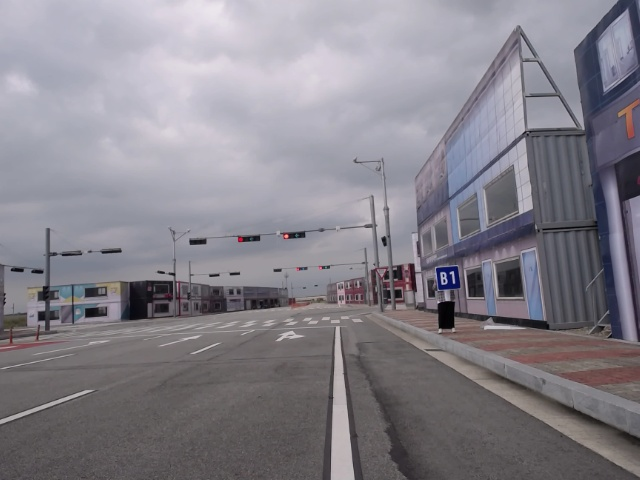delivery_b1: (435, 266, 461, 291)
left_green_4: (283, 232, 306, 239), (238, 236, 260, 242), (296, 267, 307, 271), (319, 266, 330, 270)
